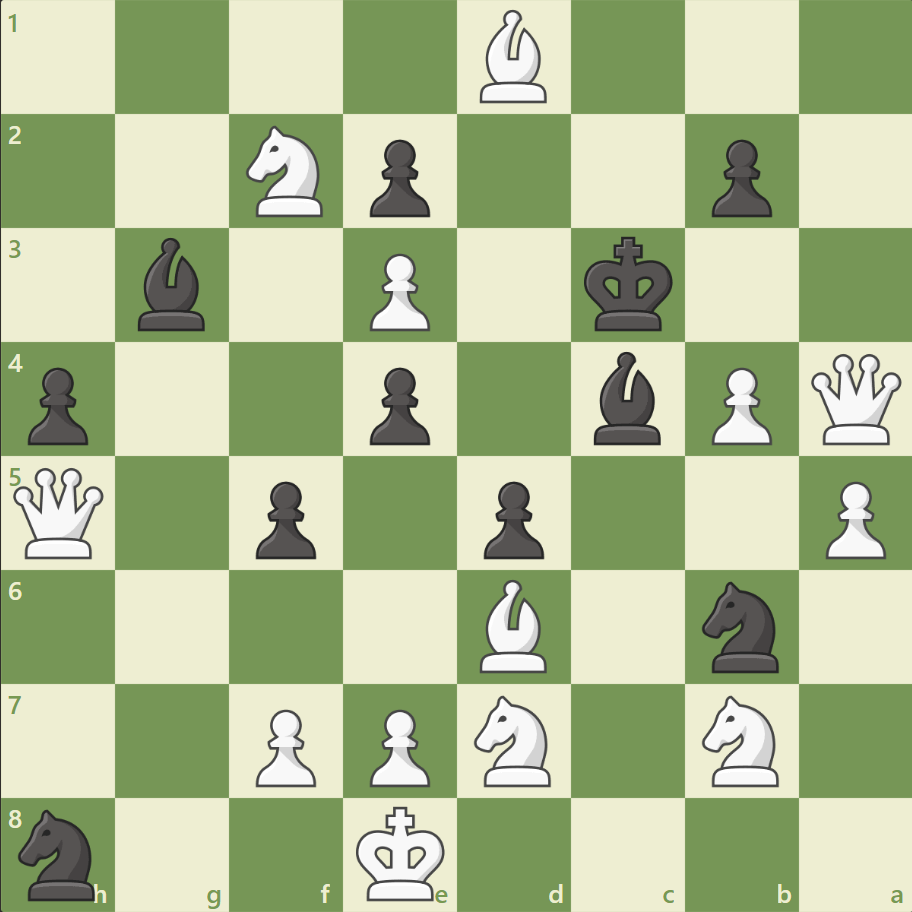B: (471, 6, 555, 109), (471, 574, 555, 676)
K: (351, 798, 451, 906)
N: (692, 688, 789, 791), (465, 688, 562, 791), (238, 121, 335, 223)
P: (247, 700, 322, 791), (701, 359, 776, 450), (361, 700, 435, 791), (815, 473, 889, 564), (361, 246, 435, 337)
Q: (805, 349, 904, 449), (10, 463, 109, 562)
b: (131, 233, 215, 336), (585, 347, 669, 449)
k: (579, 231, 679, 339)
n: (11, 802, 108, 904), (692, 575, 789, 677)
p: (474, 473, 549, 564), (247, 473, 322, 564), (20, 359, 95, 450), (701, 132, 776, 223), (361, 359, 435, 450), (361, 132, 435, 223)
